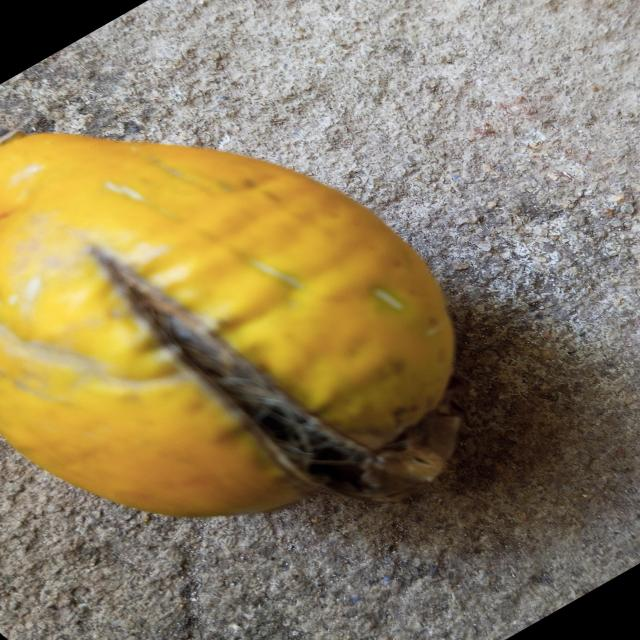damaged: (0, 133, 460, 516)
